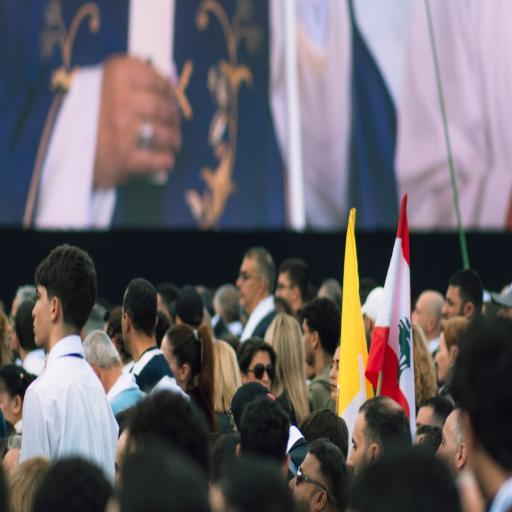face: (30, 279, 54, 343), (236, 255, 258, 312), (326, 351, 342, 404)
